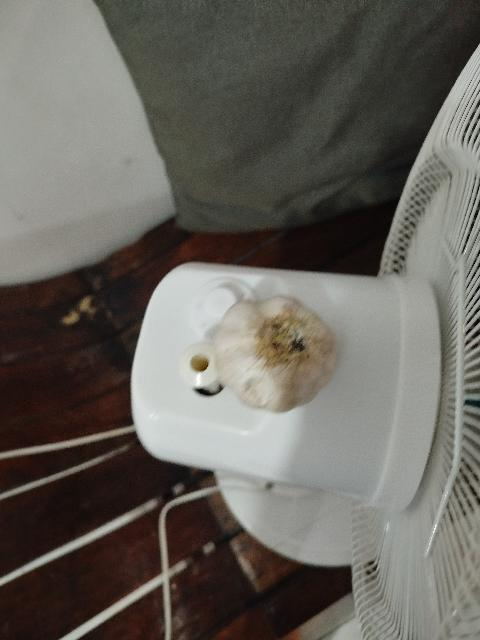garlic: (184, 269, 380, 431)
